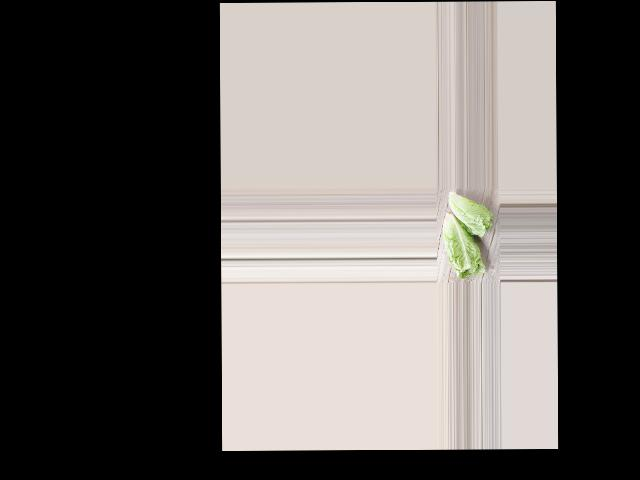lettuce: (446, 188, 496, 238)
